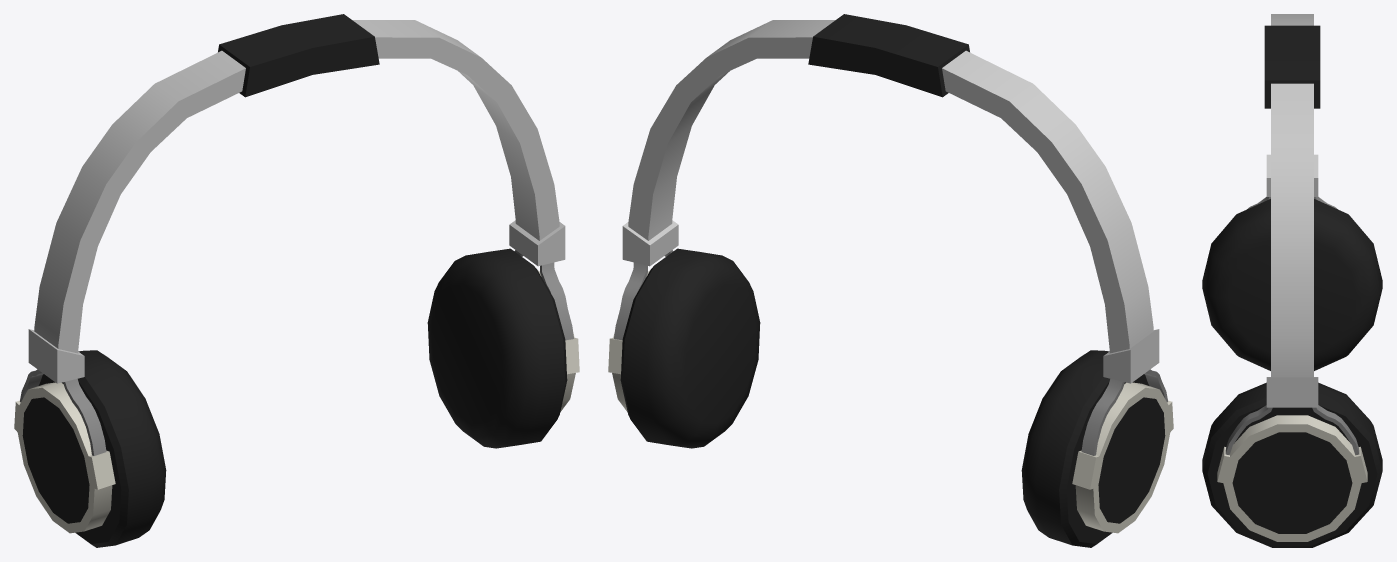
Rendered from Headset_1.obj.
The picture shows the model from 3 angles, left to right: view 1: azimuth 30°, elevation 25°; view 2: azimuth 150°, elevation 25°; view 3: azimuth 270°, elevation 25°; orthographic projection. The views are drawn at different scales.
Visible parts, largest first — view 1: Headset_1; view 2: Headset_1; view 3: Headset_1.
Boxes of the visible parts, x1,y1,x2,y2 form: Headset_1: (14,14,579,547); Headset_1: (608,14,1173,547); Headset_1: (1202,14,1382,547).
Size of the model in its own units: 0.3045 by 0.2586 by 0.1041.
